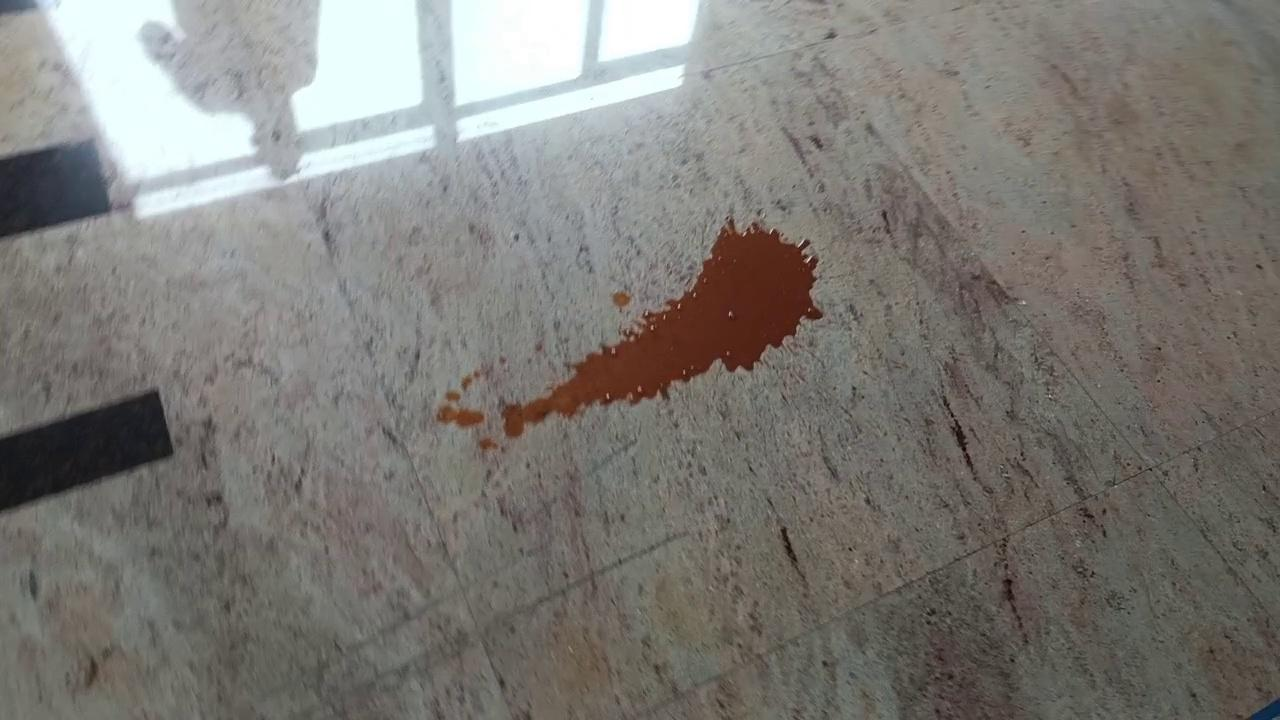dirty_floor: (437, 214, 824, 442)
